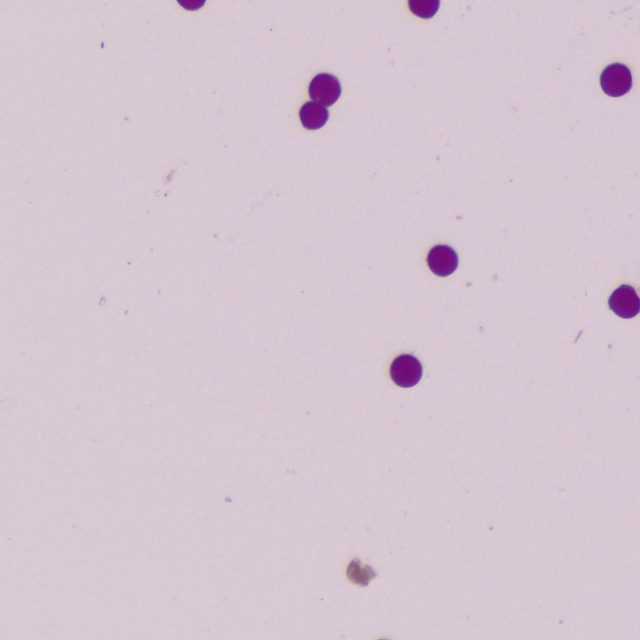viable: (300, 74, 340, 129), (601, 63, 631, 96), (609, 285, 639, 318), (391, 355, 421, 387), (427, 246, 457, 276), (409, 1, 439, 18), (177, 0, 204, 10)
